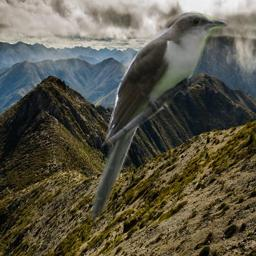Cuckoo: (85, 10, 229, 225)
